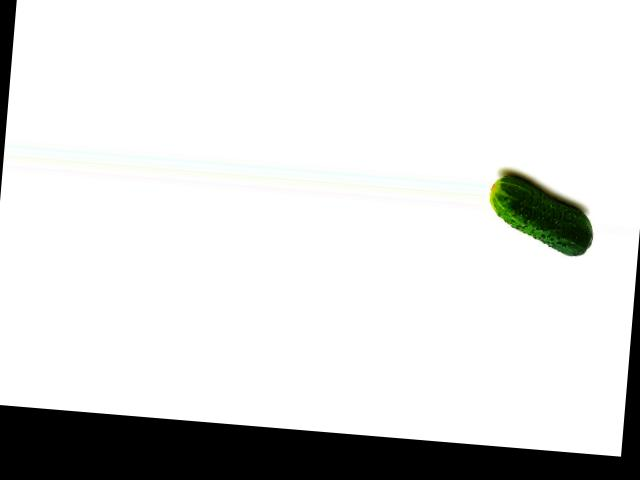cucumber: (485, 174, 597, 257)
